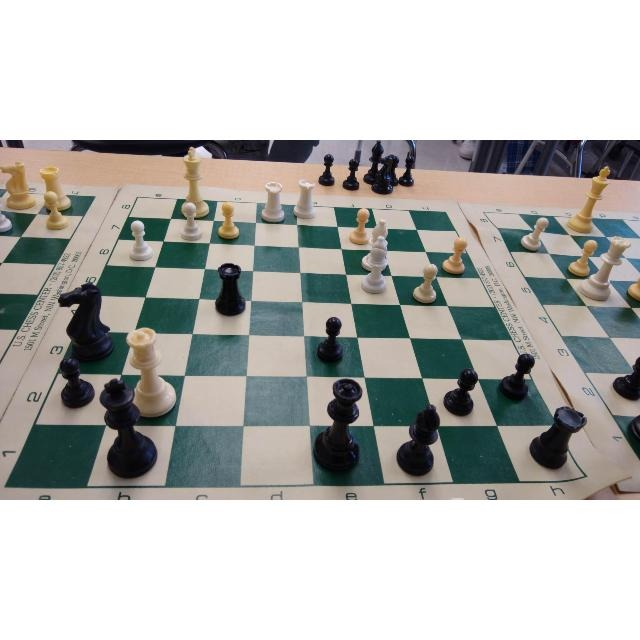black-bishop: (395, 401, 443, 478)
black-king: (94, 374, 162, 481)
black-knight: (48, 279, 118, 364)
black-pawn: (52, 356, 98, 410), (441, 363, 481, 418), (496, 348, 536, 403), (316, 315, 346, 365), (610, 352, 639, 402)
black-queen: (309, 375, 366, 475)
black-rook: (525, 403, 588, 473), (214, 258, 247, 319)
white-bishop: (359, 235, 388, 297), (361, 217, 393, 271)
white-king: (566, 165, 613, 236), (178, 144, 211, 221)
white-knight: (1, 160, 37, 212)
white-pawn: (38, 190, 71, 232), (128, 216, 156, 265), (518, 212, 549, 255), (567, 238, 598, 280), (439, 235, 470, 276), (410, 262, 439, 305), (176, 200, 204, 242), (347, 203, 373, 247), (217, 200, 241, 242), (0, 195, 13, 237)
white-queen: (120, 324, 180, 420), (576, 235, 632, 305)
white-rook: (38, 163, 74, 217), (259, 179, 287, 224), (291, 176, 318, 220)
